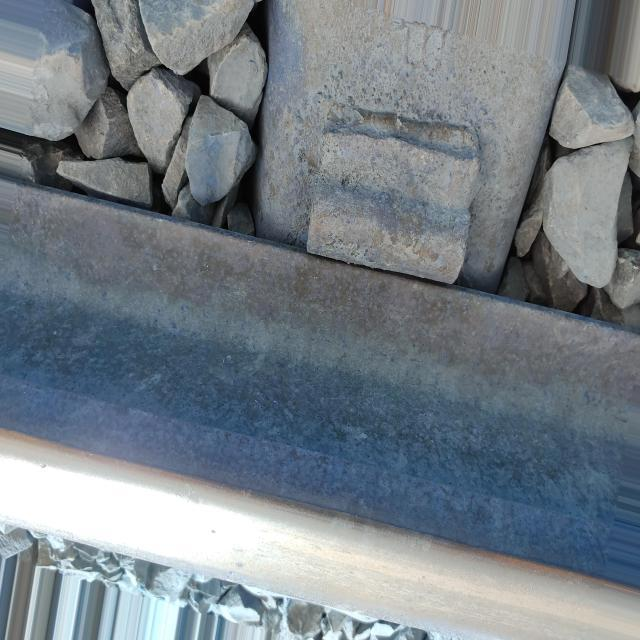Missing Fastener: (230, 72, 534, 362)
